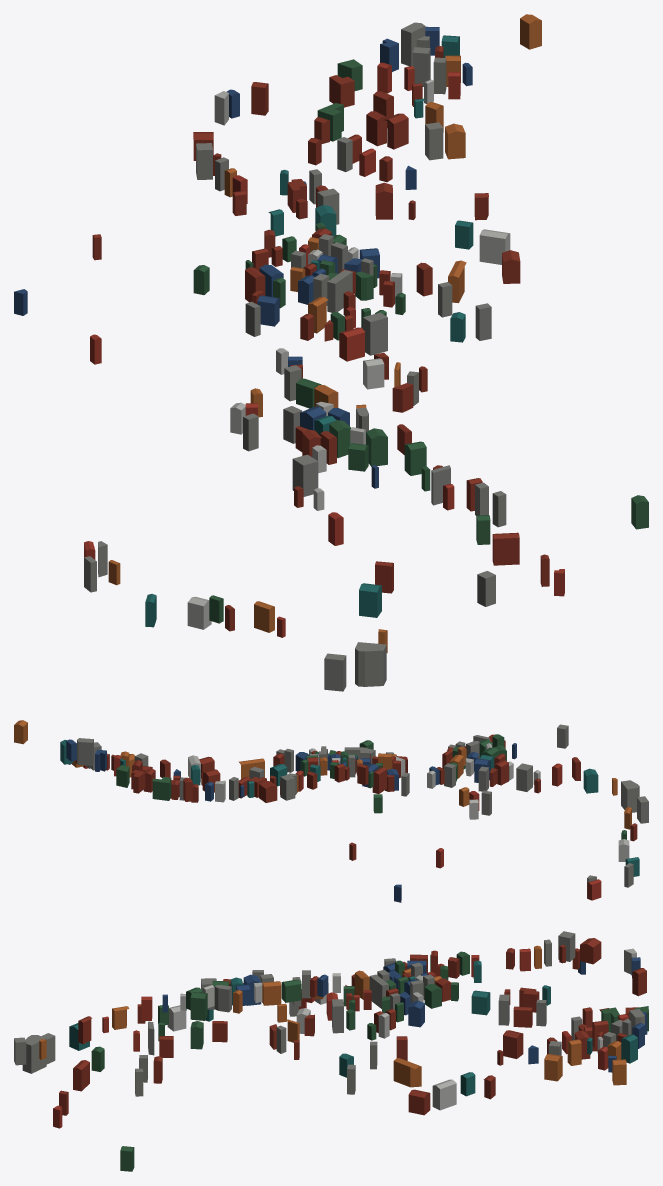
File: near-16-54732-29742.a2234ead.glb
3 views of the same model, one above another, from view 1: azimuth 30°, elevation 25°; view 2: azimuth 150°, elevation 25°; view 3: azimuth 270°, elevation 25° (orthographic). The views are drawn at different scales.
Bounding box in the file's own units: 574 × 226 × 585.
